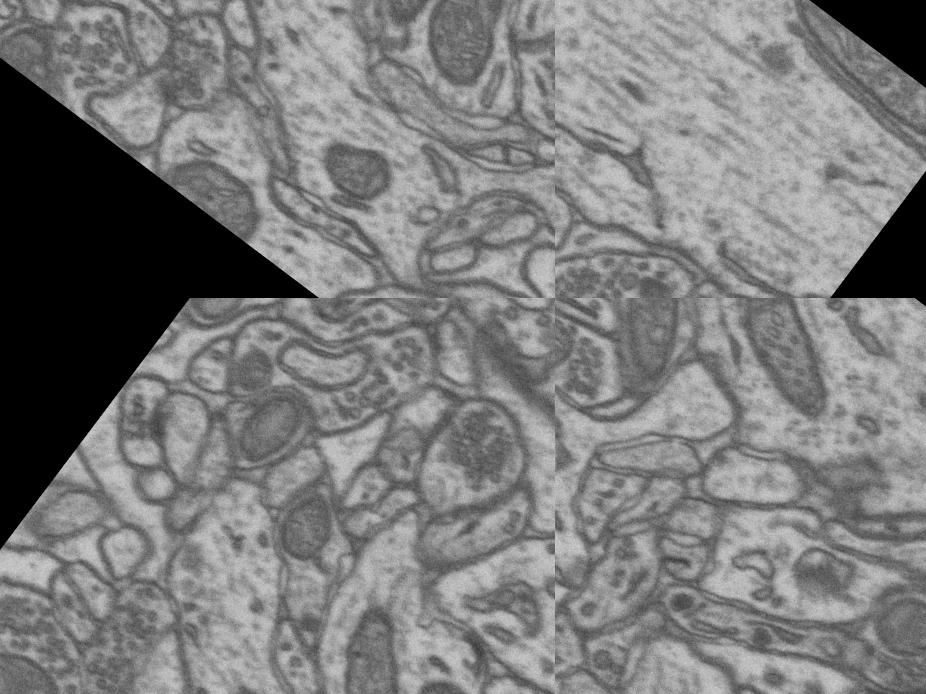mitochondria: (749, 0, 926, 172), (688, 298, 883, 437), (559, 298, 733, 405), (291, 592, 459, 694), (394, 0, 545, 101), (160, 140, 276, 244), (217, 376, 316, 481), (255, 474, 354, 576), (305, 119, 404, 216), (0, 9, 90, 104), (849, 569, 926, 680), (605, 245, 712, 298), (0, 633, 80, 694), (383, 660, 505, 694), (350, 267, 463, 298), (555, 298, 592, 391), (179, 298, 263, 338), (221, 340, 277, 397), (555, 532, 580, 654)
